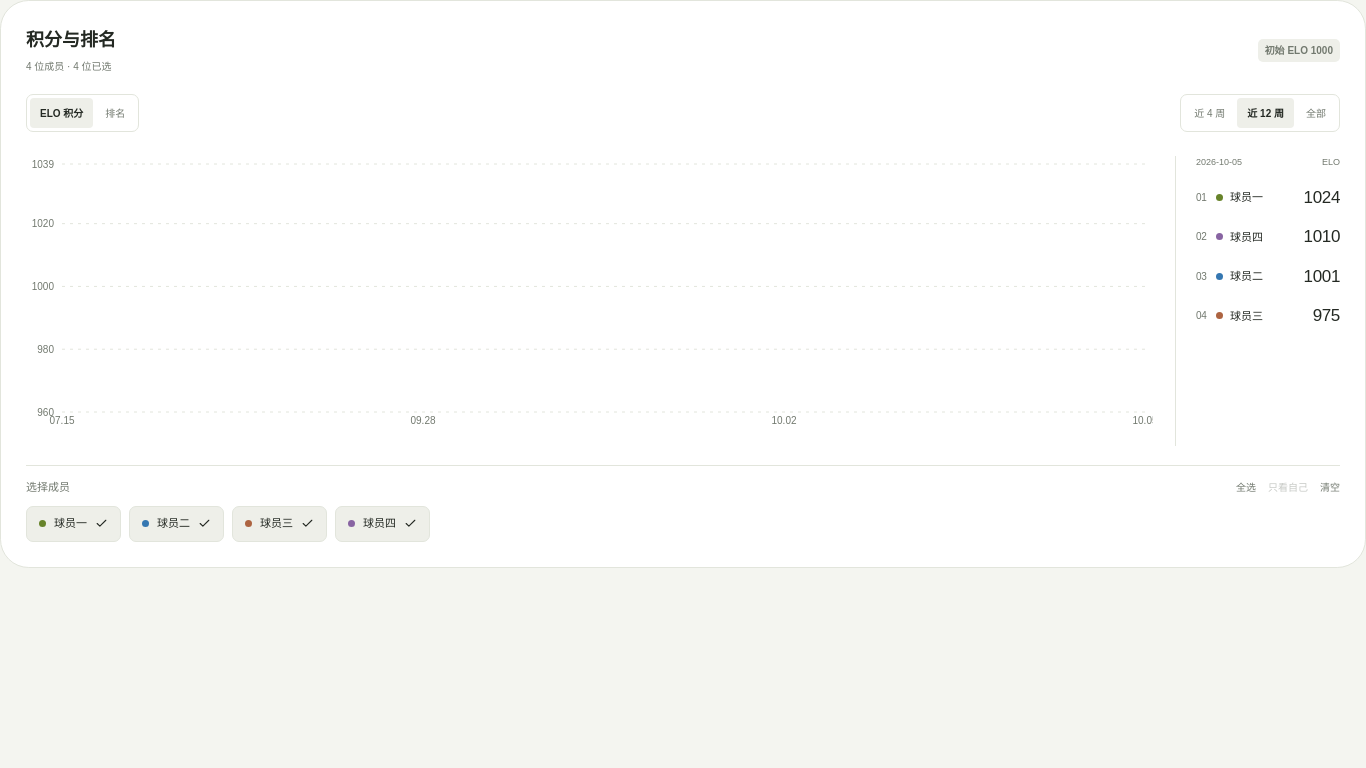
Test: Legacy 趋势(全量页) › 清空成员显示空态且无按钮行残留,全选后恢复读数
The width and height of the screenshot is (1366, 768).
Click the button "清空" at (1330, 487), box left=1320, top=480, right=1340, bottom=495
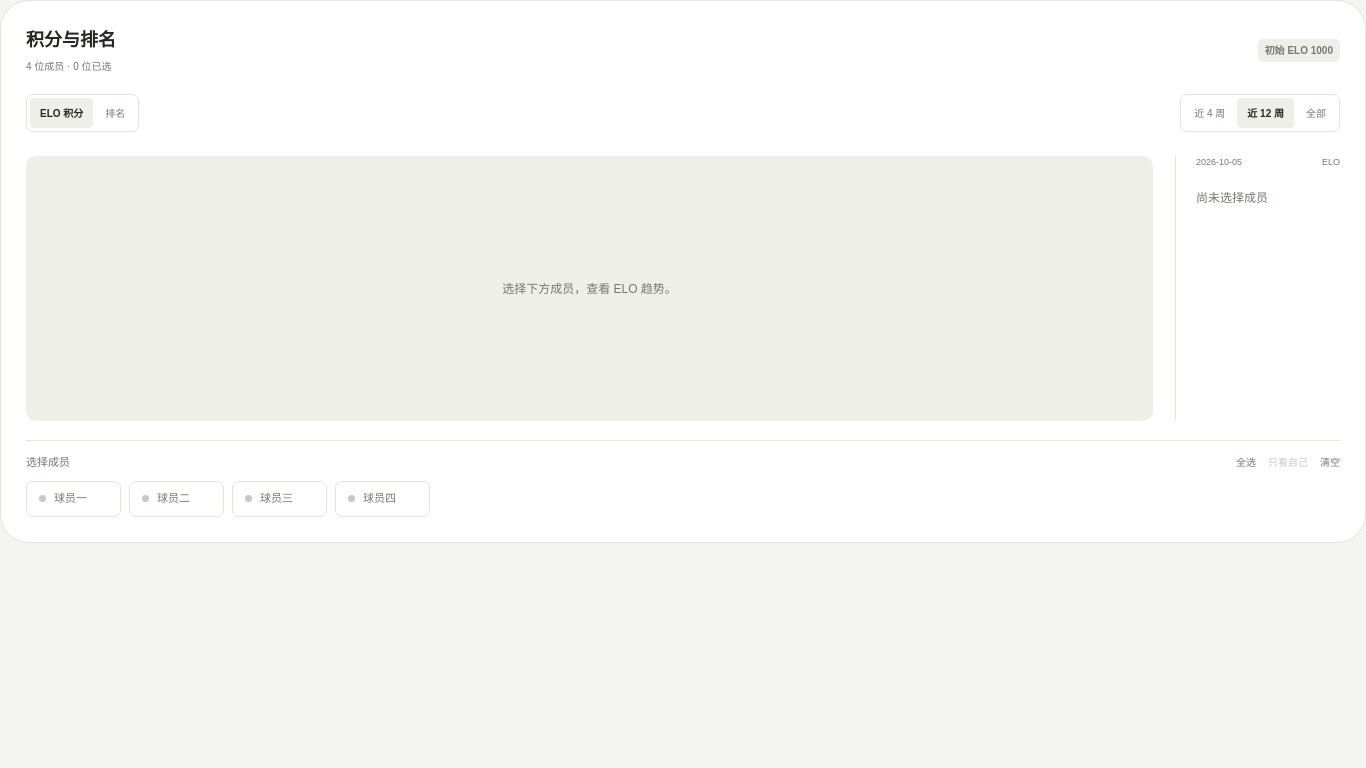
Now the text "选择下方成员，查看 ELO 趋势。" is shown, box left=26, top=156, right=1153, bottom=421
Now the text "尚未选择成员" is shown, box left=1196, top=190, right=1268, bottom=204
Click the button "全选" at (1246, 462), box left=1236, top=455, right=1256, bottom=470
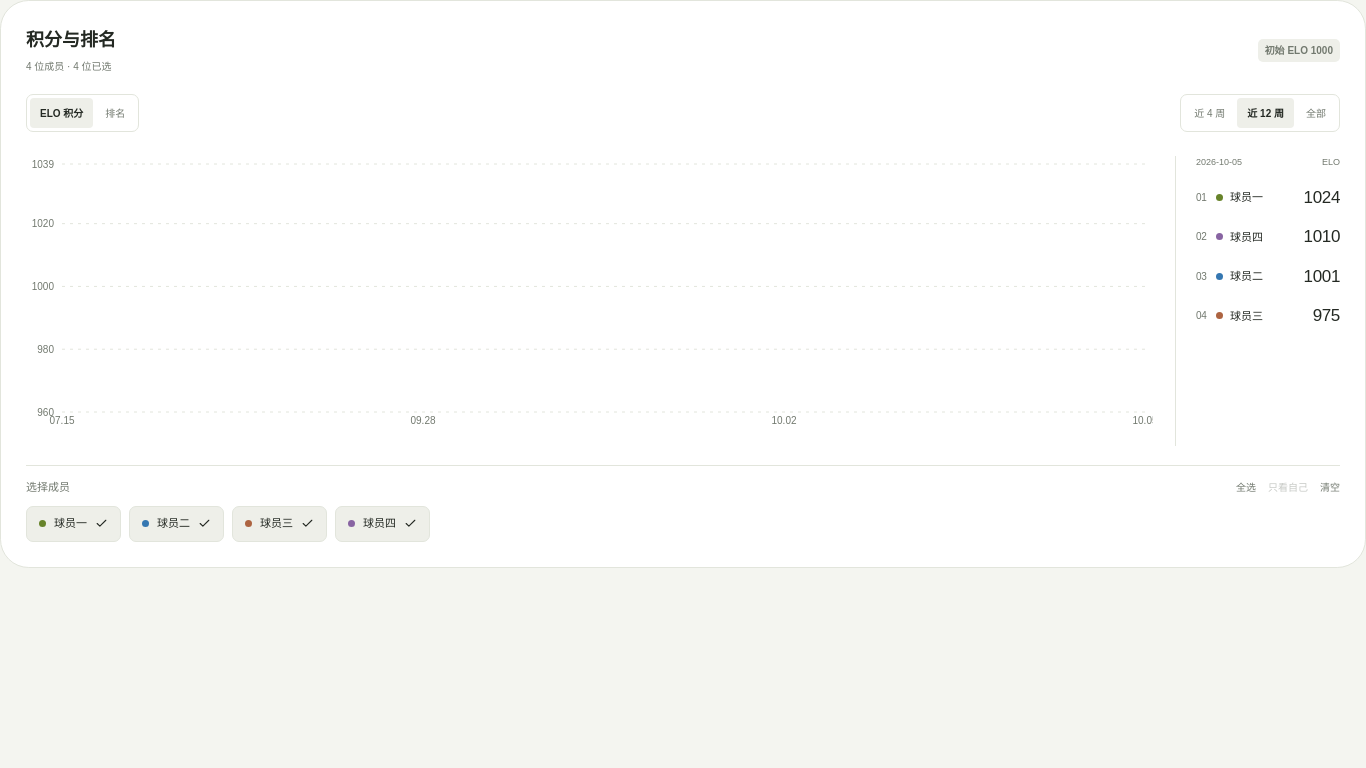
Now the number of links is 4, box left=1196, top=188, right=1340, bottom=206; left=1196, top=227, right=1340, bottom=246; left=1196, top=266, right=1340, bottom=286; left=1196, top=306, right=1340, bottom=325
